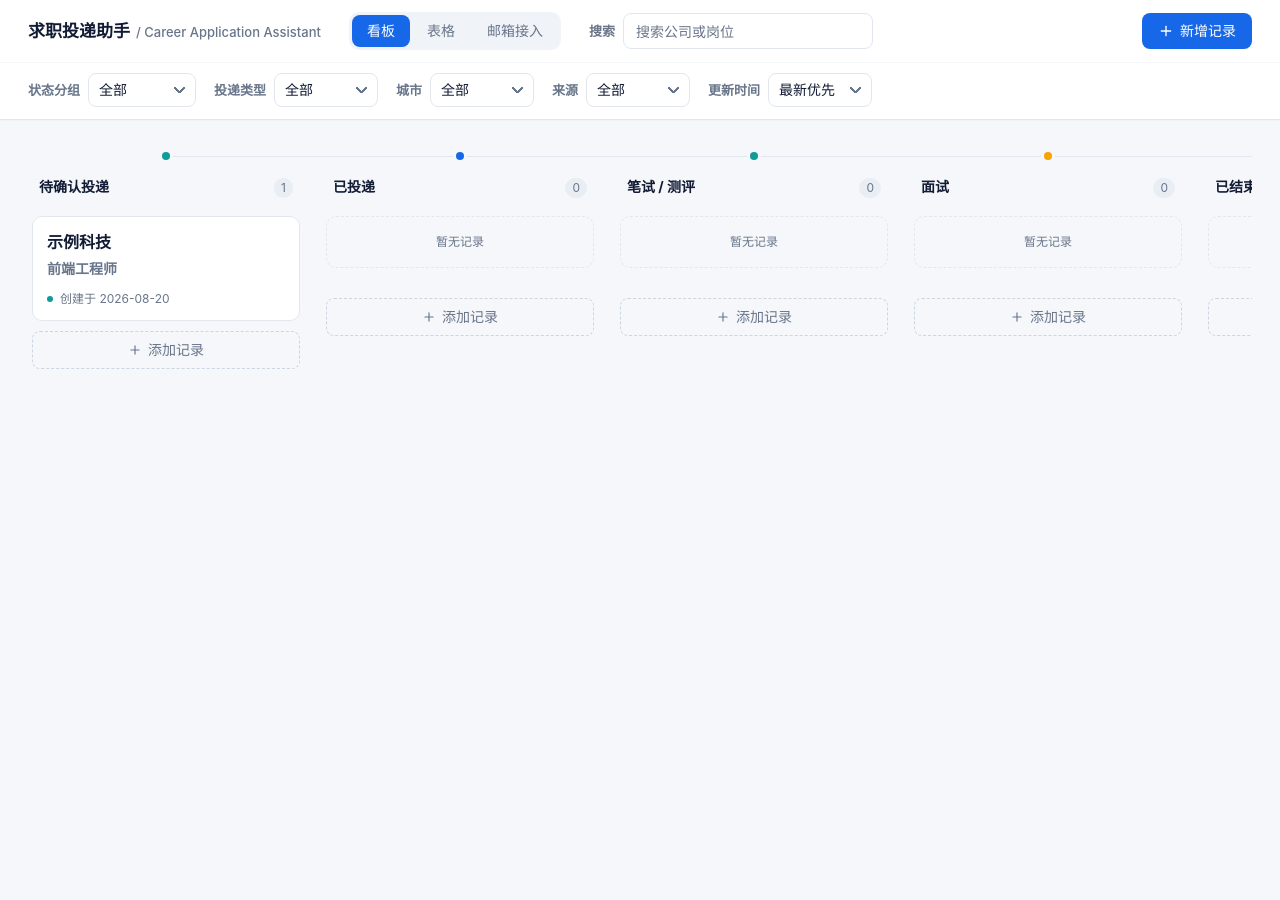
Test: App 核心交互 › 新增记录成功：短 Toast + 列表 refetch
This screenshot has width=1280, height=900.
Click the button with test id "new-record-button": (1197, 31) [1142,13,1252,49]
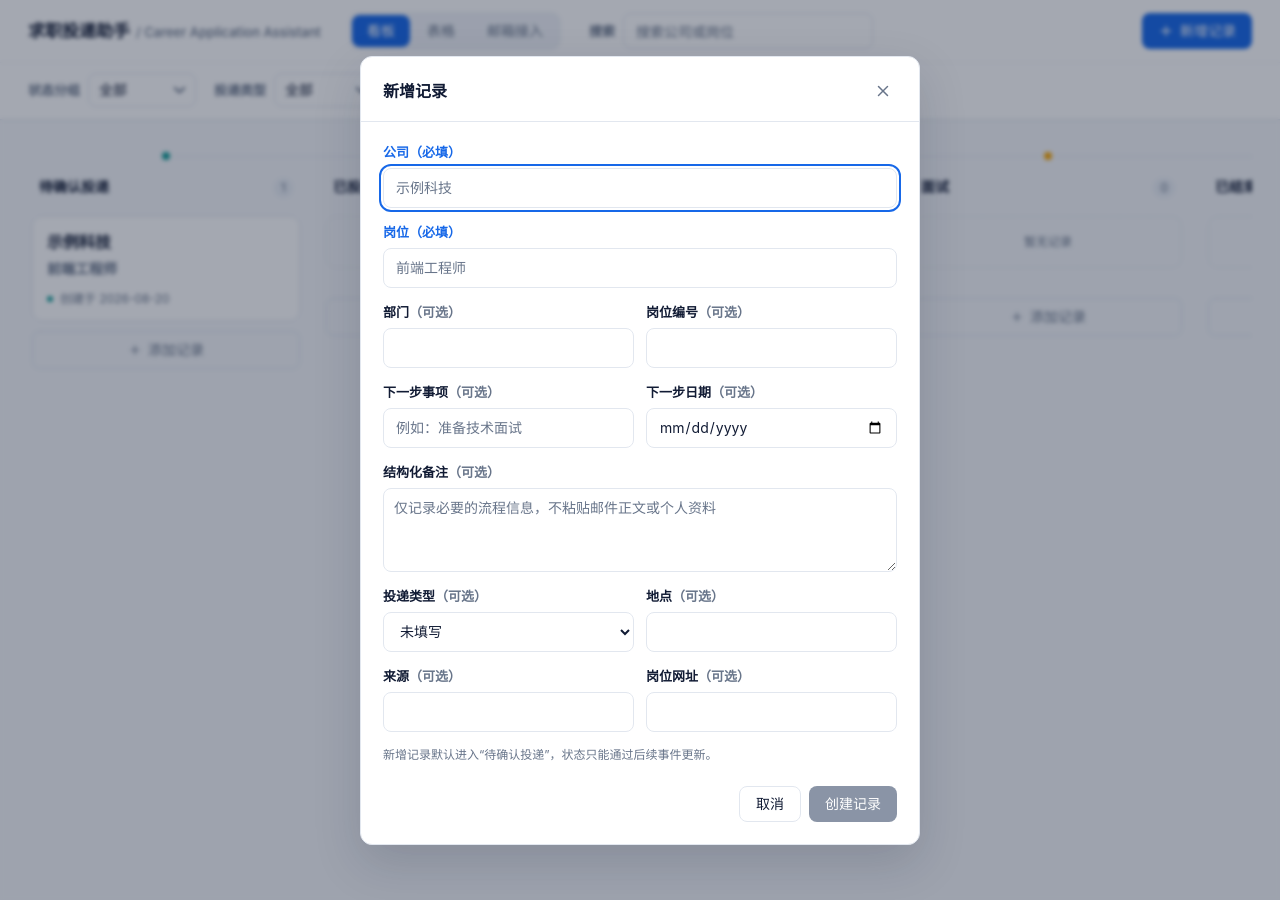
Check: the field with test id "record-form-company" is shown
In the field with test id "record-form-company": (640, 188) [383,168,897,208], type "示例网络"
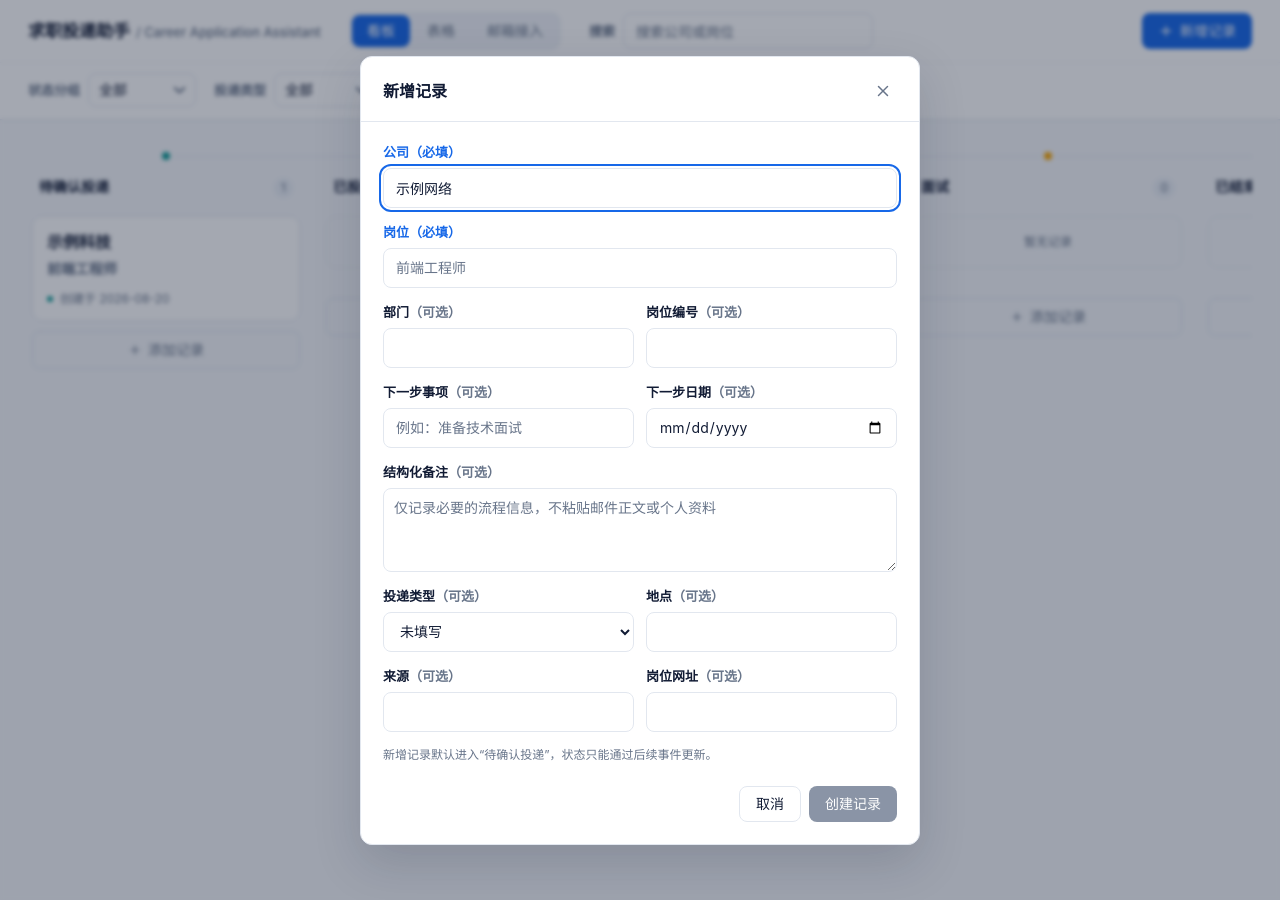
In the field with test id "record-form-job": (640, 268) [383,248,897,288], type "后端工程师"
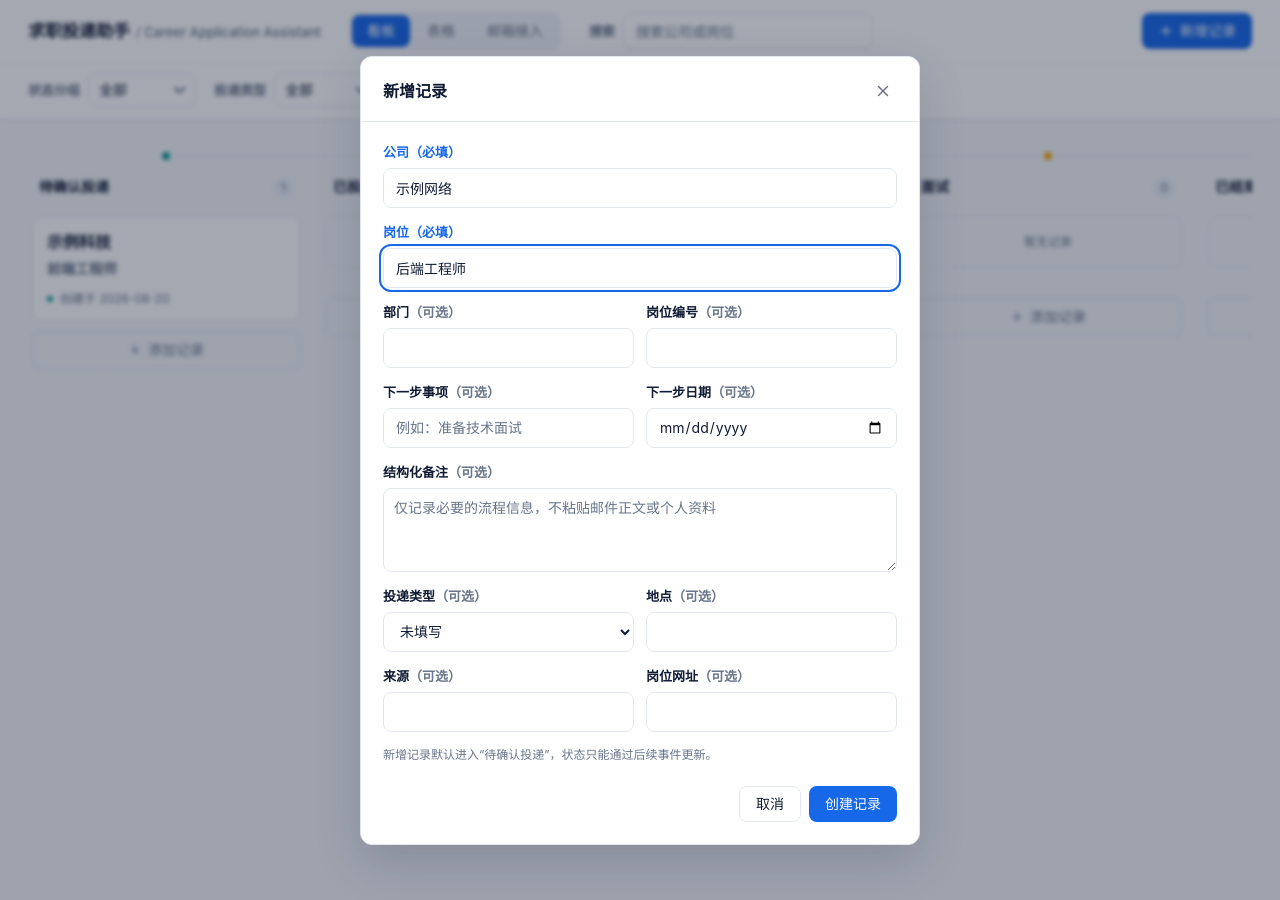
Click the button with test id "record-form-submit": (853, 804) [809,786,897,822]
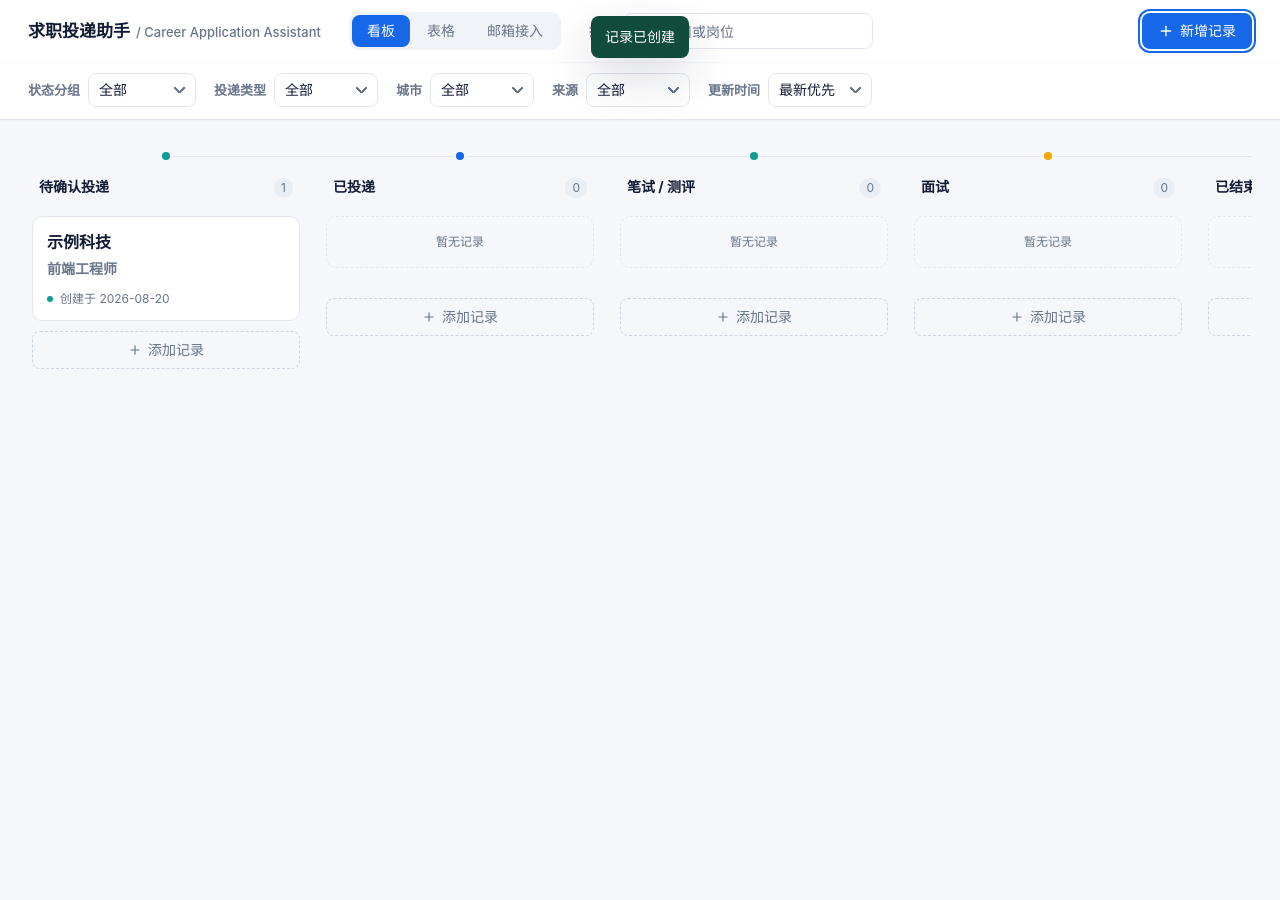
Check: the text "记录已创建" is shown, box [591,16,689,58]
